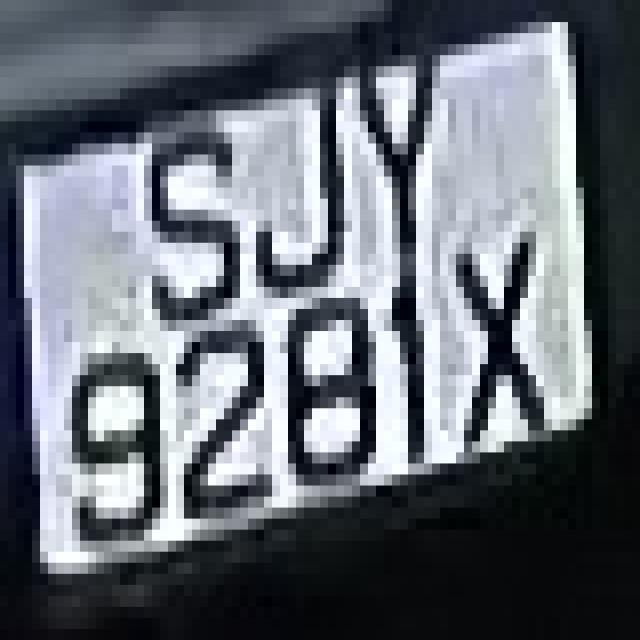1: (376, 243, 448, 474)
2: (160, 287, 288, 552)
8: (272, 264, 392, 518)
9: (48, 353, 168, 607)
J: (248, 55, 360, 320)
S: (112, 88, 264, 353)
X: (432, 176, 544, 452)
Y: (352, 66, 464, 254)
